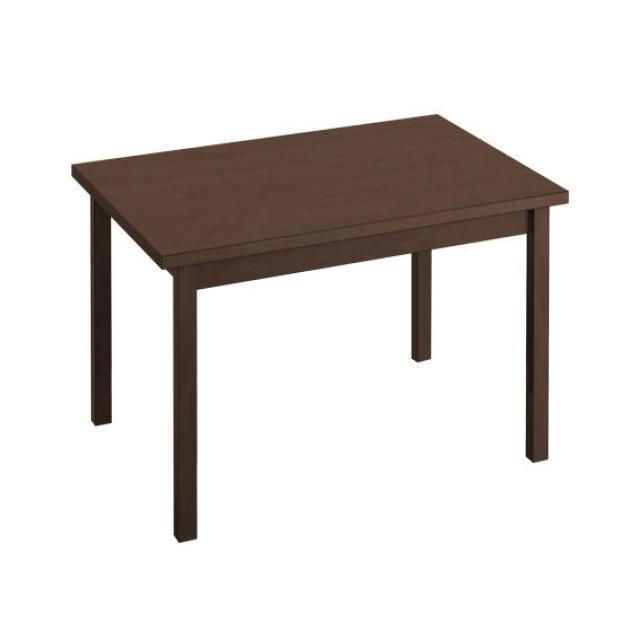table: (70, 112, 569, 543)
